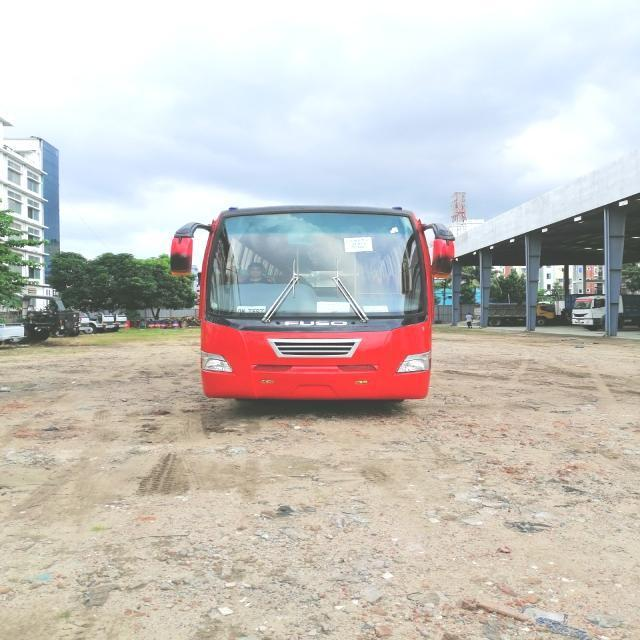Bus: (145, 182, 498, 427)
